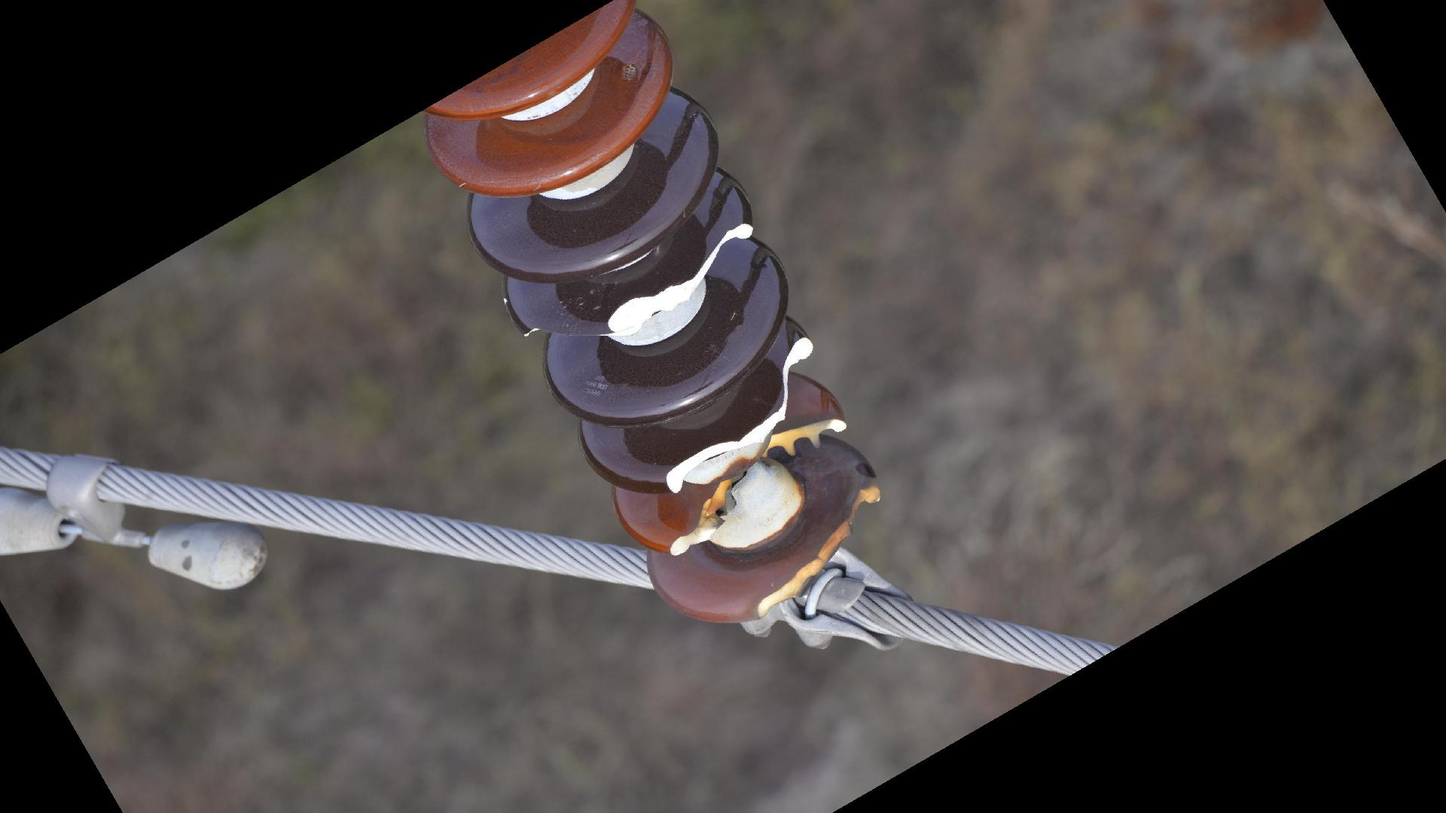insulator: (416, 1, 892, 637)
insulator_breakage: (511, 212, 761, 346), (661, 409, 852, 562), (655, 325, 819, 498), (749, 474, 887, 625)
